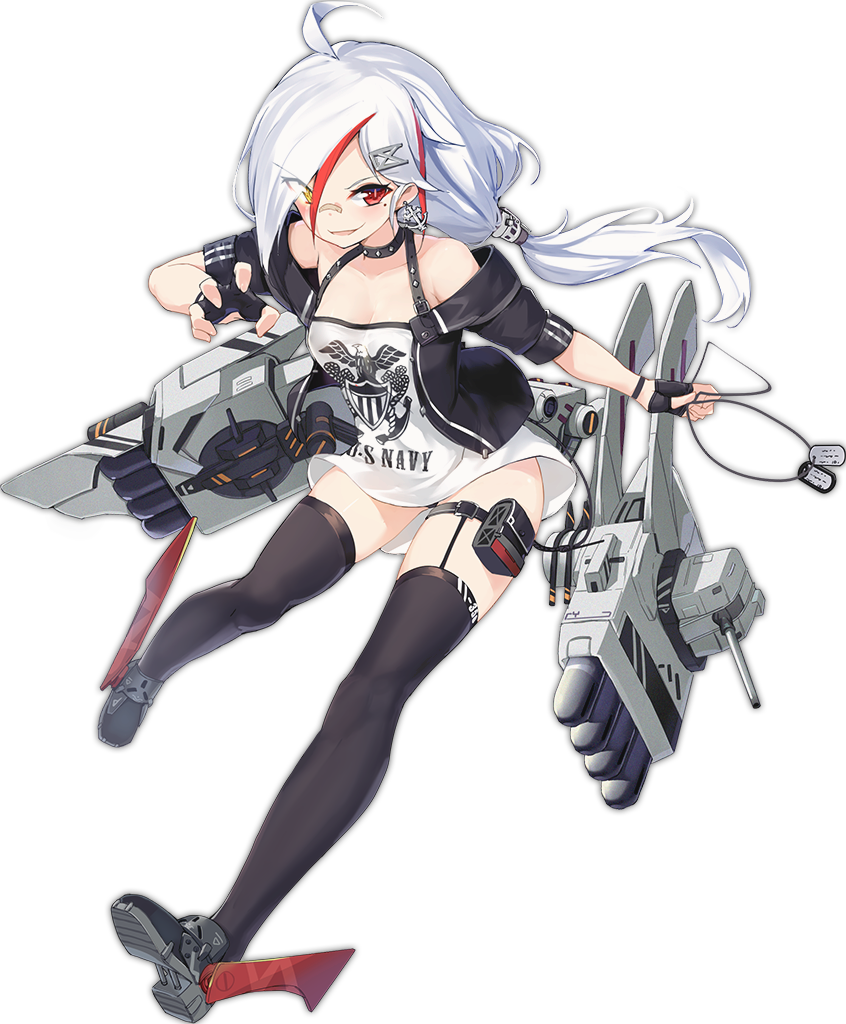person: (61, 29, 675, 813)
